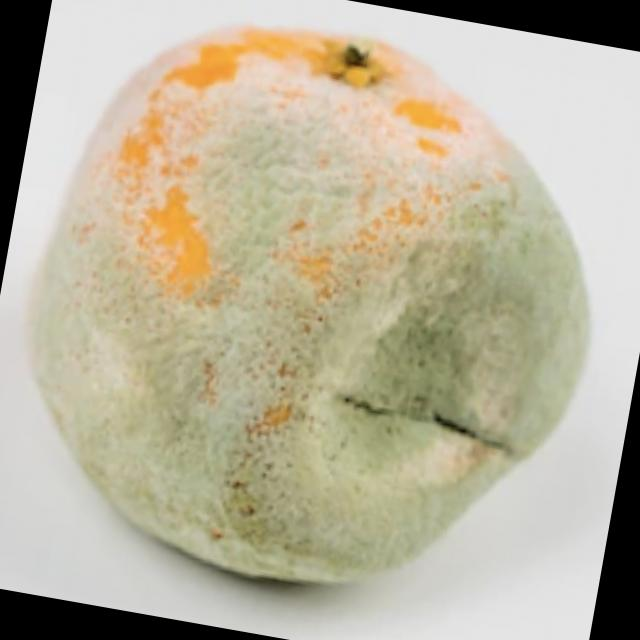rotten-orange: (0, 0, 631, 634)
